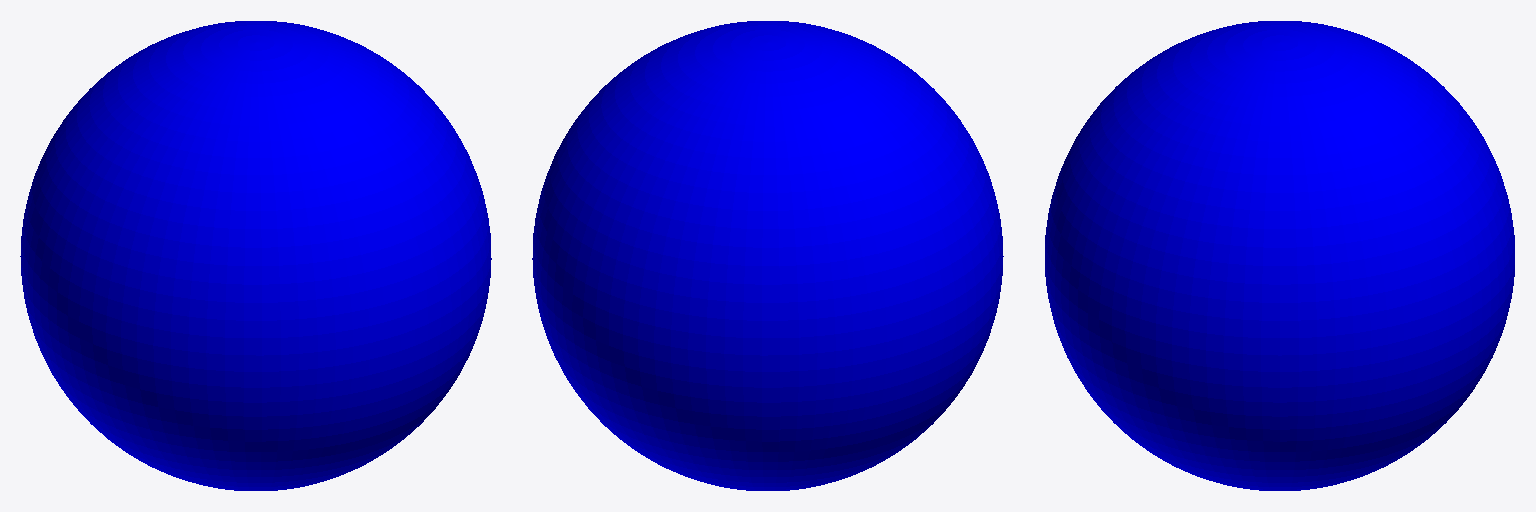
URDF robot description (sphere):
<?xml version="1.0" encoding="utf-8"?>

<robot  name="sphere">
  <link  name="sphere">
  
    <inertial>
      <origin xyz="-1.1481E-17 0 0" rpy="0 0 0" />
      <mass value="5" />
      <inertia ixx="52.36" ixy="0" ixz="0" iyy="52.36" iyz="0" izz="52.36" />
    </inertial>
	
    <visual>
      <origin xyz="0 0 0" rpy="1.5707963267949 0 0" />
	  
      <geometry>
			<mesh filename="meshes/sphere.STL" />
      </geometry>
	  
      <material name="">
        <color rgba="0 0 1 1" />		
        <texture filename="textures/" />
      </material>
	  
    </visual>
	
    <collision>
      <origin xyz="0 0 0" rpy="1.5707963267949 0 0" />
	  
      <geometry>
        <mesh filename="meshes/sphere.STL" />
      </geometry>
	  
    </collision>
  </link>
</robot>

--- Facts derived from the render (not from the file) ---
Views: 3 orthographic renders of the robot side by side, from view 1: azimuth 30°, elevation 25°; view 2: azimuth 150°, elevation 25°; view 3: azimuth 270°, elevation 25°.
Robot: sphere — 1 links, 0 joints (none); root link sphere; default pose: every joint at zero.
Visible links, largest first — view 1: sphere; view 2: sphere; view 3: sphere.
Boxes of the visible links, x1=… form: sphere: x1=20, y1=21, x2=491, y2=490; sphere: x1=532, y1=21, x2=1003, y2=490; sphere: x1=1045, y1=21, x2=1514, y2=490.
Size in the robot's own frame: 0.9996 by 0.9998 by 1 metres.
Meshes: 1 distinct files referenced, 1 mesh visuals loaded (1 binary STL).